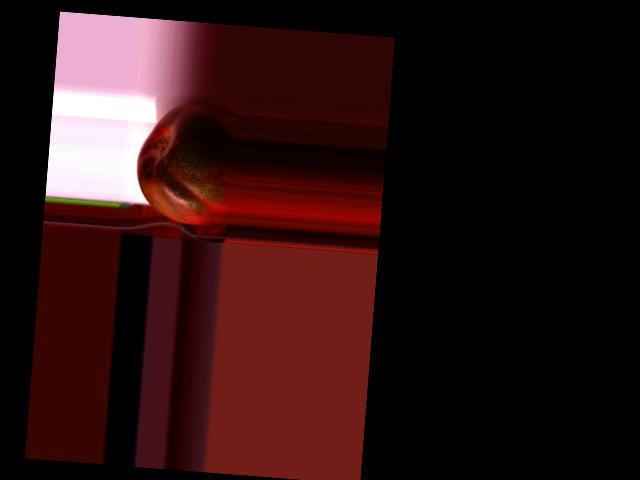tomato: (133, 98, 237, 227)
